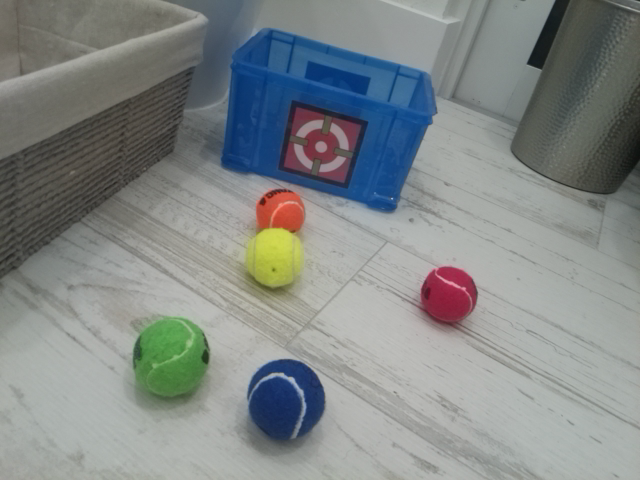blue-ball: (246, 358, 326, 442)
drop-bin: (277, 100, 369, 188)
green-ball: (131, 315, 210, 399)
orange-ball: (254, 187, 305, 236)
red-ball: (419, 264, 479, 324)
yellow-ball: (244, 227, 305, 289)
